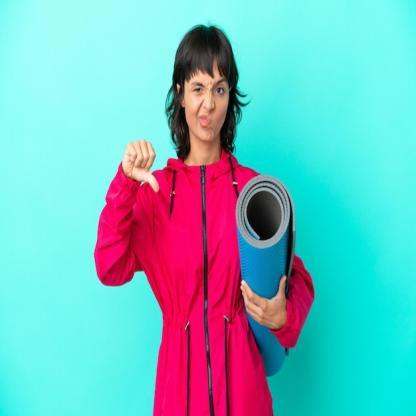thumb_down: (124, 136, 162, 196)
